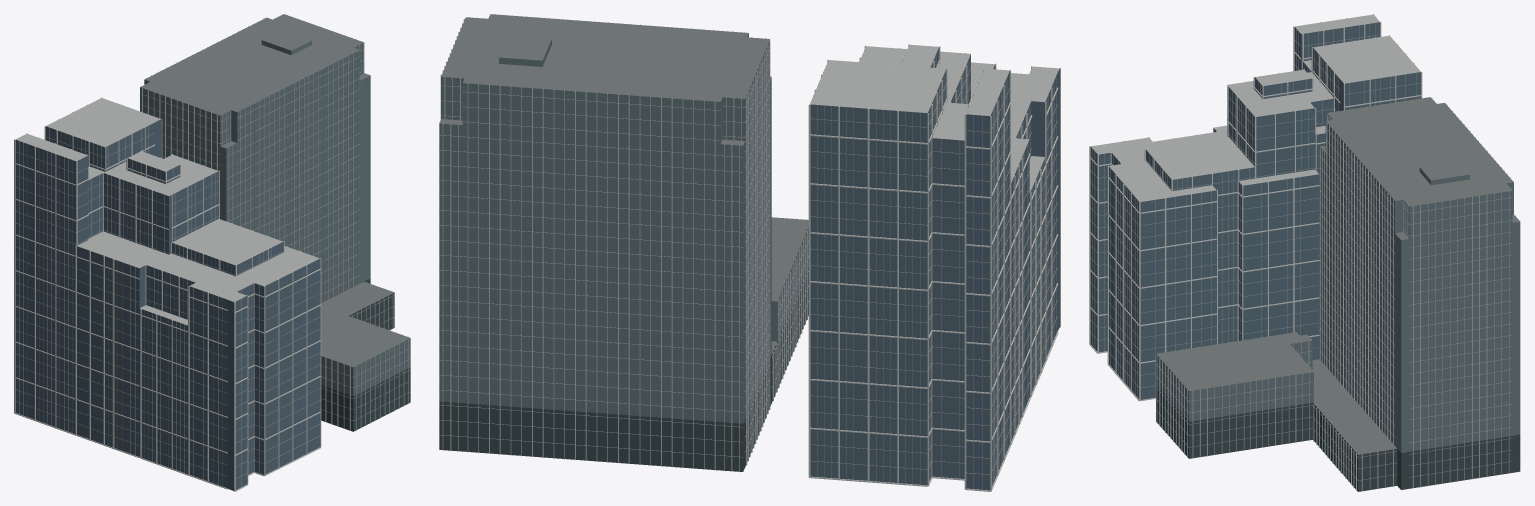
File: viaduct-frontage.glb
3 renders of one model, left to right at view 1: azimuth 30°, elevation 25°; view 2: azimuth 150°, elevation 25°; view 3: azimuth 270°, elevation 25°, orthographic. The views are drawn at different scales.
Visible parts, largest first — view 1: structure_806929_clean_envelope, structure_817607_clean_envelope, structure_806929_fine_mullions_and_transoms, structure_806929_structural_grid, structure_817607_vertical_fins_and_transoms; view 2: structure_817607_clean_envelope, structure_806929_clean_envelope, structure_817607_vertical_fins_and_transoms, structure_806929_fine_mullions_and_transoms, structure_806929_structural_grid; view 3: structure_817607_clean_envelope, structure_806929_clean_envelope, structure_817607_vertical_fins_and_transoms, structure_806929_structural_grid, structure_806929_fine_mullions_and_transoms.
Part boxes in pixels (bbox=[...]): structure_806929_clean_envelope: bbox=[15, 98, 320, 490]; structure_817607_clean_envelope: bbox=[140, 14, 410, 431]; structure_806929_fine_mullions_and_transoms: bbox=[15, 124, 320, 488]; structure_806929_structural_grid: bbox=[14, 97, 321, 491]; structure_817607_vertical_fins_and_transoms: bbox=[140, 14, 410, 430]; structure_817607_clean_envelope: bbox=[439, 14, 808, 471]; structure_806929_clean_envelope: bbox=[810, 44, 1059, 490]; structure_817607_vertical_fins_and_transoms: bbox=[439, 14, 808, 472]; structure_806929_fine_mullions_and_transoms: bbox=[810, 48, 1057, 489]; structure_806929_structural_grid: bbox=[808, 44, 1060, 491]; structure_817607_clean_envelope: bbox=[1156, 97, 1520, 491]; structure_806929_clean_envelope: bbox=[1090, 14, 1420, 399]; structure_817607_vertical_fins_and_transoms: bbox=[1156, 97, 1520, 491]; structure_806929_structural_grid: bbox=[1089, 14, 1422, 401]; structure_806929_fine_mullions_and_transoms: bbox=[1090, 23, 1420, 399].
Size of the model in its own units: 127 by 89.13 by 121.
